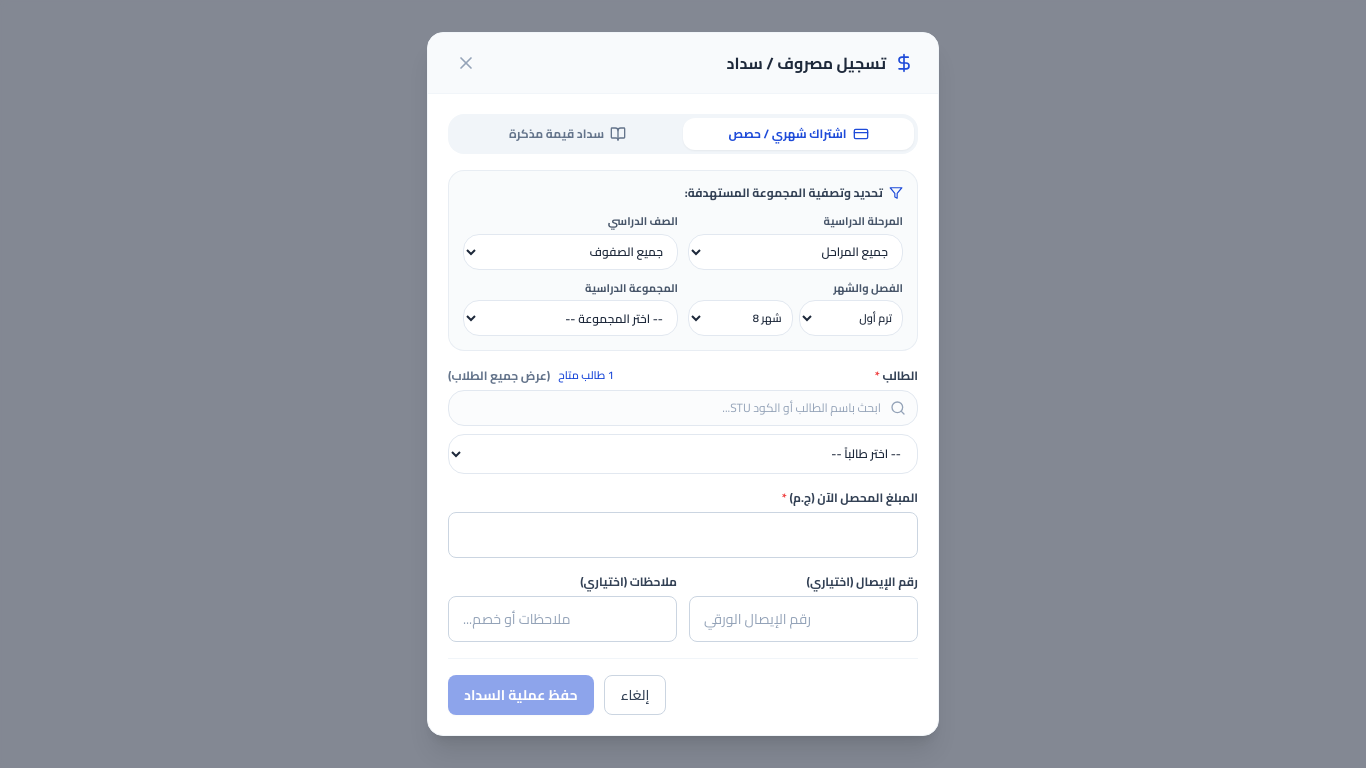
Test case: RecordPaymentModal booklet eligibility › displays mid-month tuition proration banner and expected half fee for mid-month student
Select "سارة خالد — (نصف شهر — المطلوب: 150 ج.م)" in the dropdown named "سارة خالد" below "الطالب" at (683, 454), box [448,434,918,474]
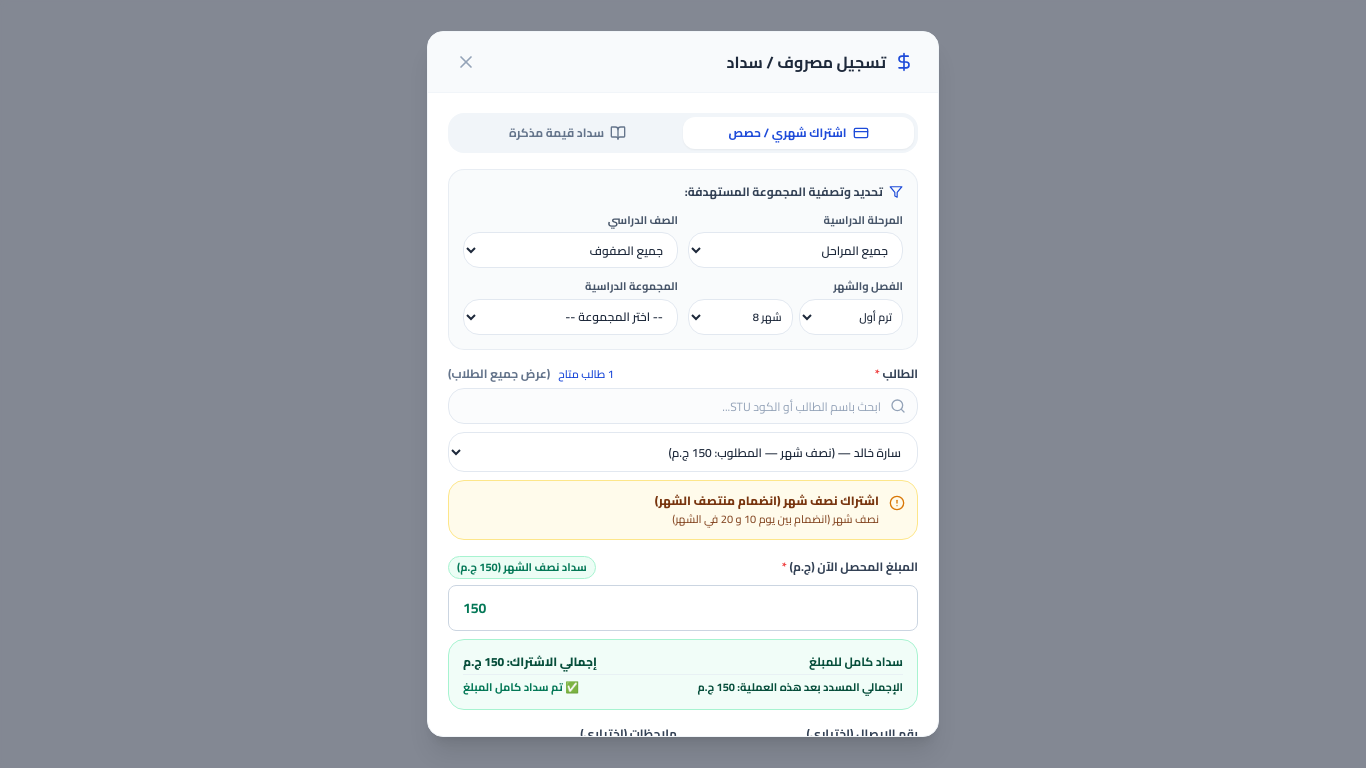
Result: the text "اشتراك نصف شهر (انضمام منتصف الشهر)" is shown at [655,493,879,509]
Result: the text "نصف شهر (انضمام بين يوم 10 و 20 في الشهر)" is shown at [655,511,879,527]
Result: the button "سداد نصف الشهر (150 ج.م)" is shown at [448,556,596,579]
